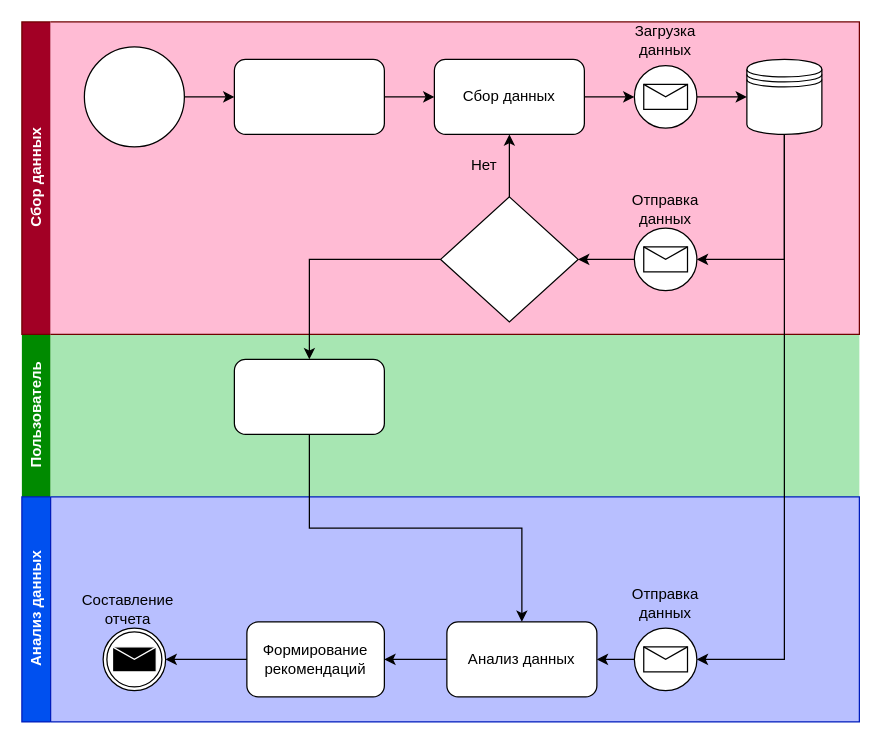
Some shapes in this 881 by 744 pixel diagram are drawn without their labels. The shapes that lost their labels are listed below. From the top down, each one's centre as x and y in pixels, then its label:
the point at 308,96: Включить режим настройки
the point at 508,259: Данных достаточно?
the point at 308,396: Выбор активности
